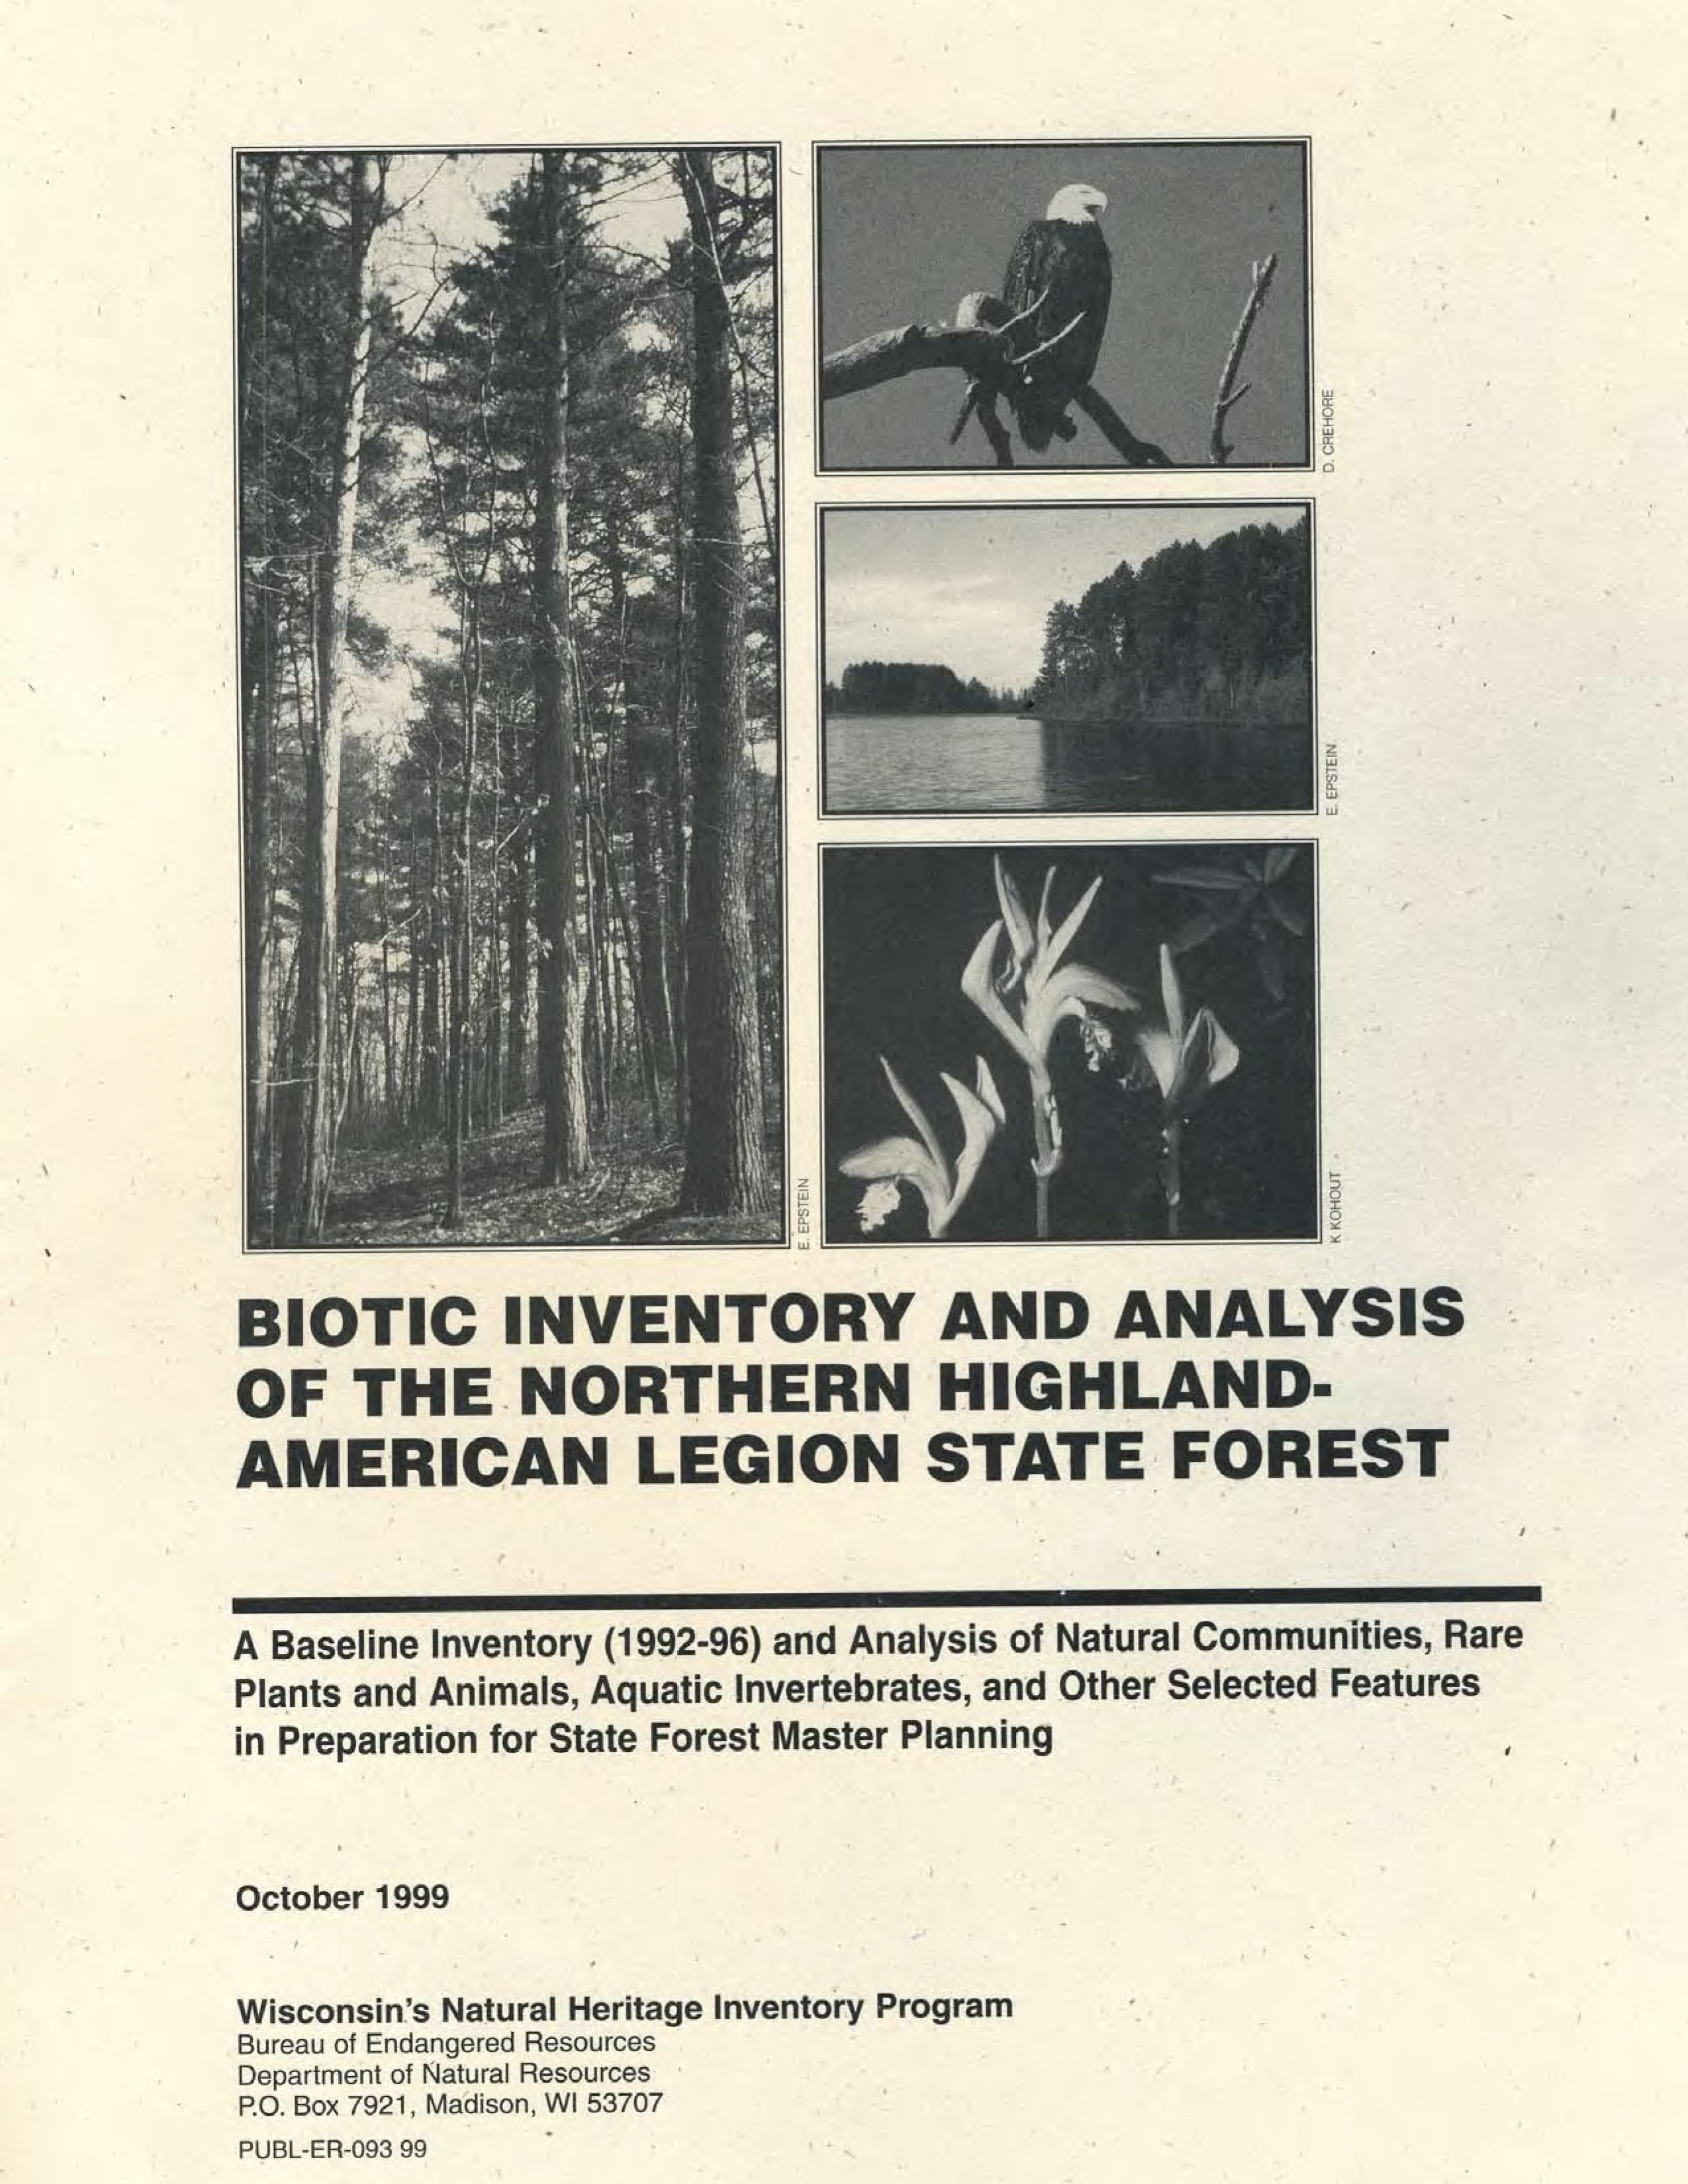figure: (227, 147, 800, 1252), (817, 849, 1316, 1237), (816, 142, 1316, 472), (821, 503, 1309, 815)
section: (231, 1292, 1466, 1487)
text: (222, 1626, 1518, 1760), (238, 1985, 1000, 2161), (234, 1870, 456, 1923)
